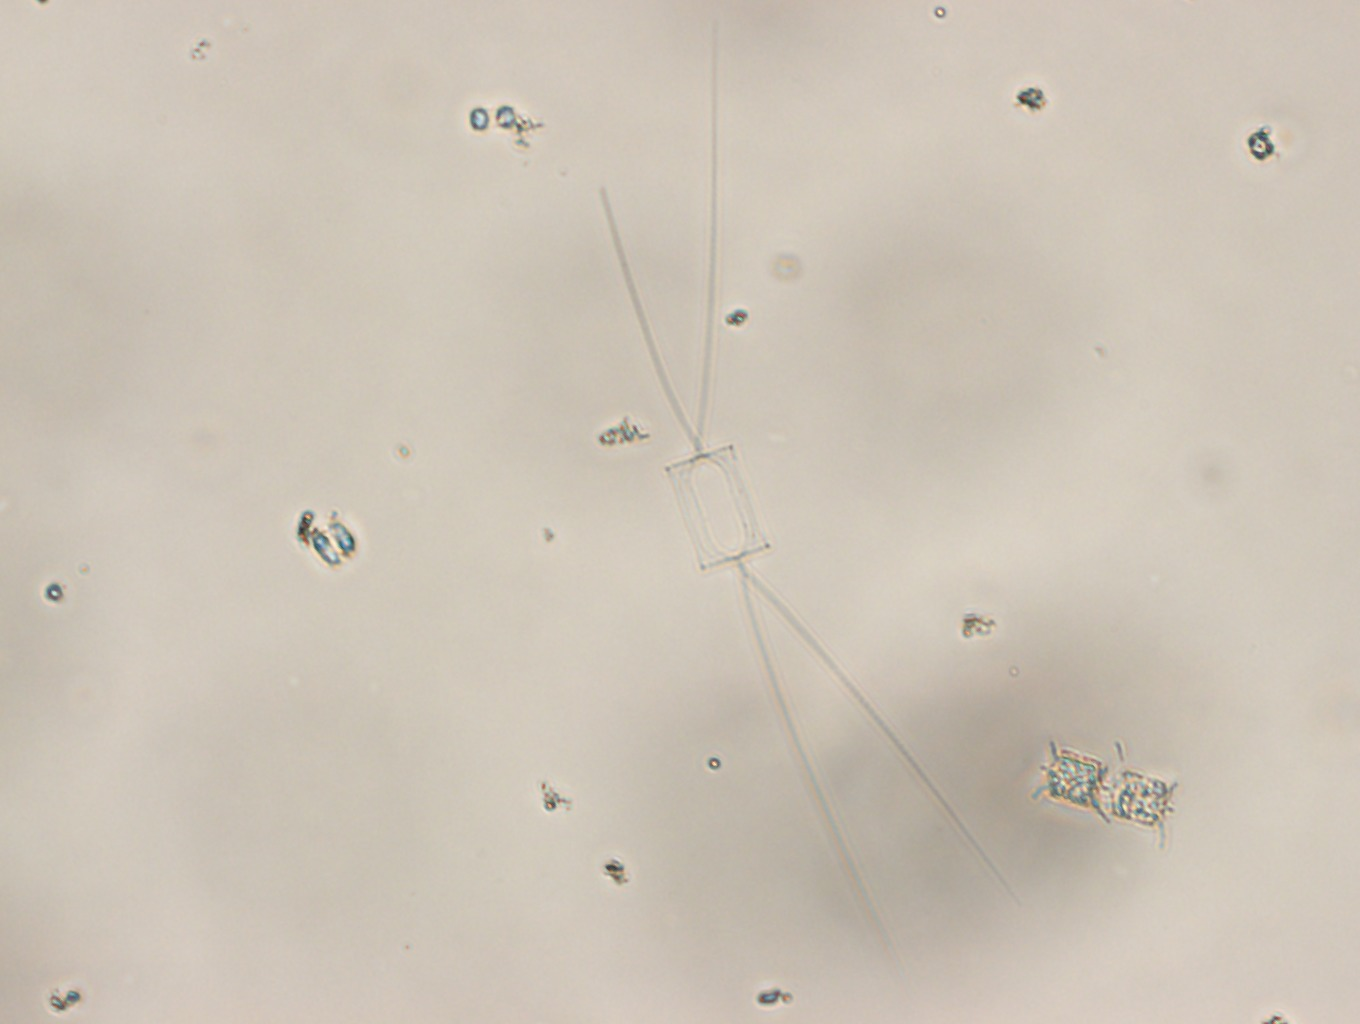chaetoceros: (597, 10, 1006, 967), (1033, 736, 1179, 855)
